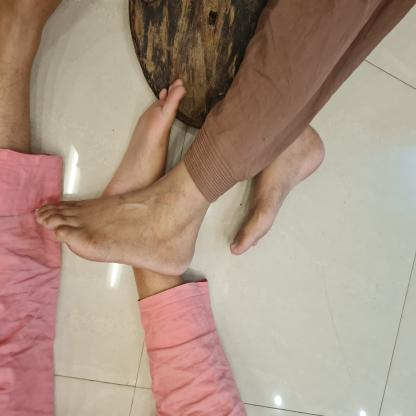leg: (31, 162, 209, 280), (225, 119, 328, 258), (95, 74, 190, 193)
